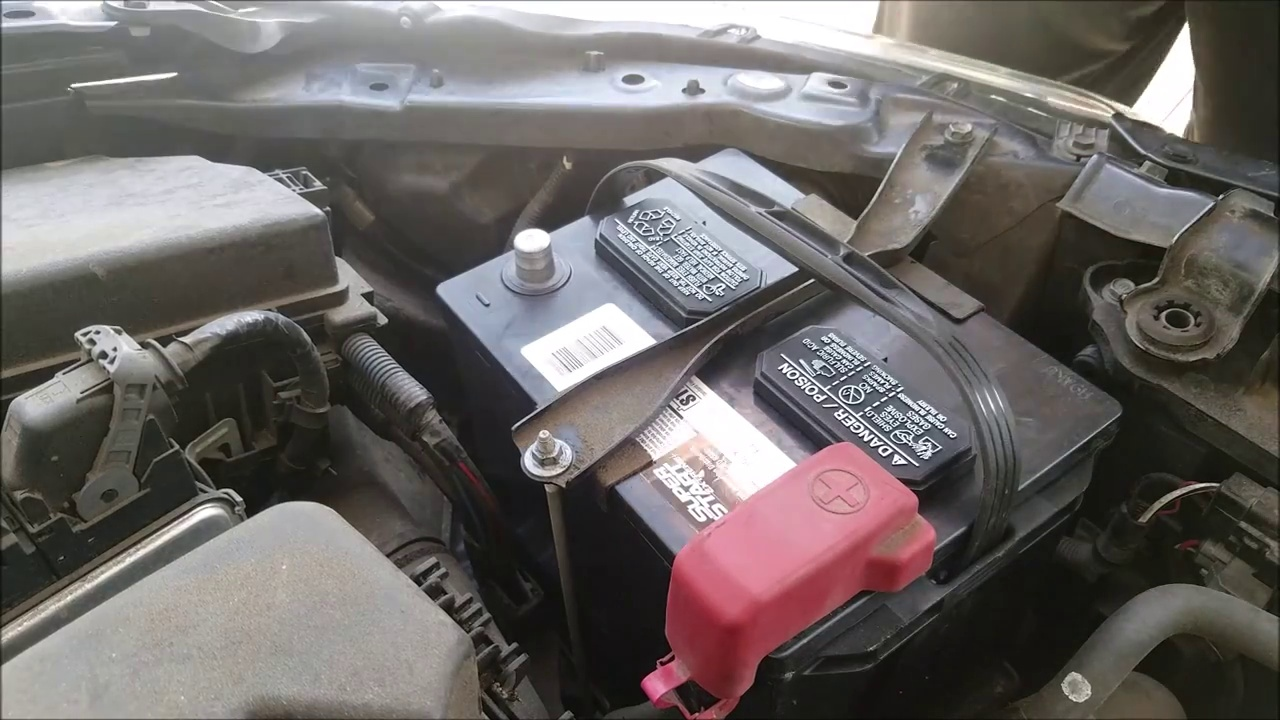battery: (434, 145, 1122, 672)
neg_disconnected: (454, 195, 624, 312)
pos_connected: (659, 452, 952, 697)
